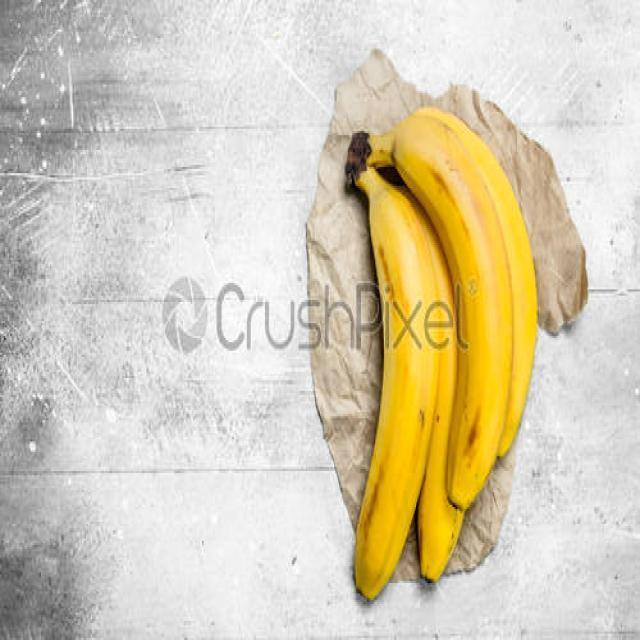Banana: (342, 104, 542, 608)
